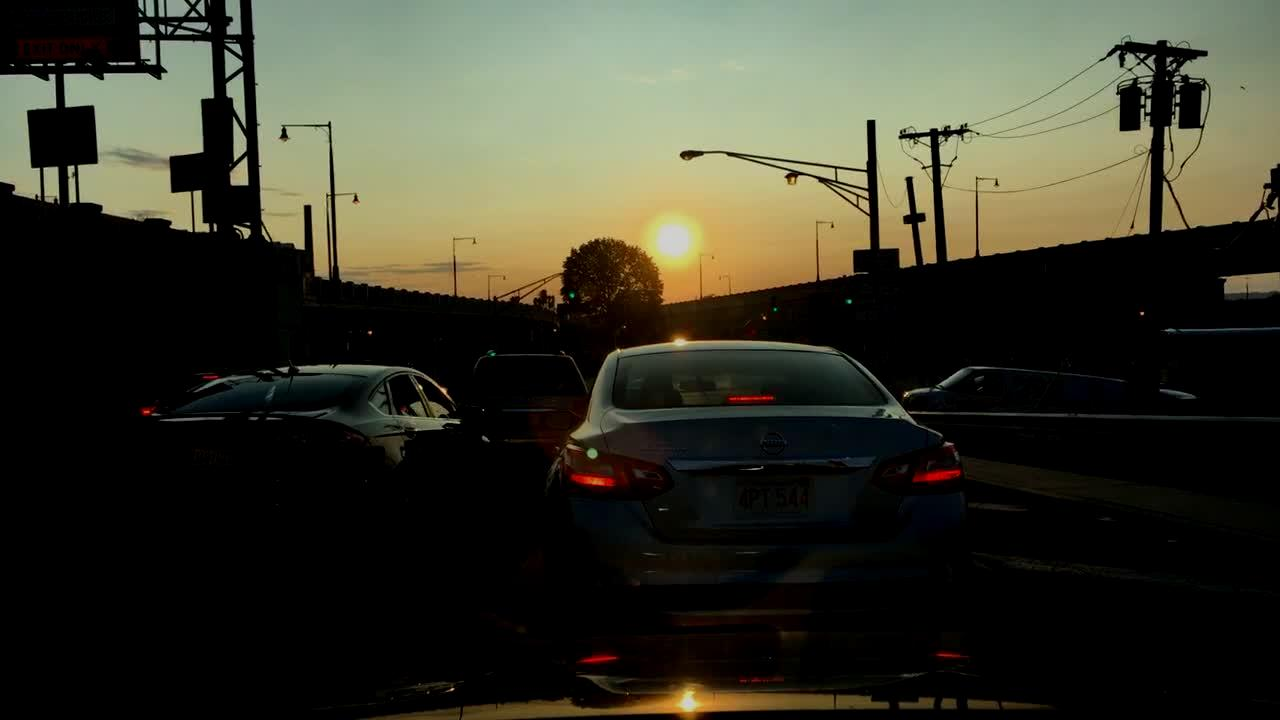Nissan: (744, 426, 804, 468)
